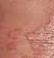plaque psoriasis: (24, 10, 54, 58)
